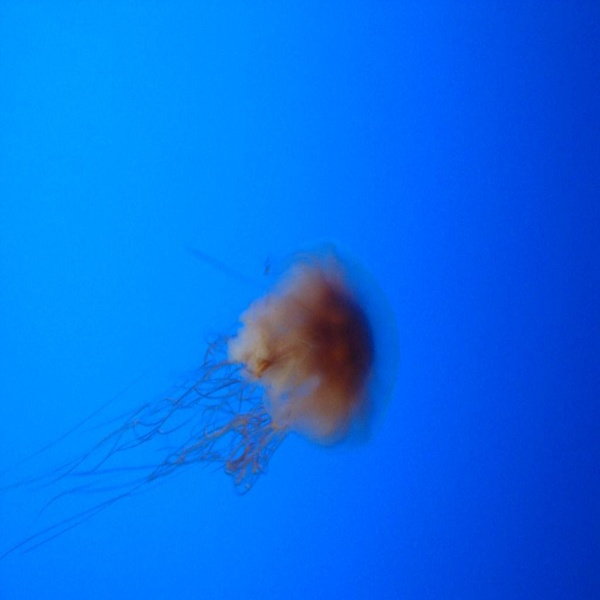Jellyfish: (0, 234, 402, 577)
